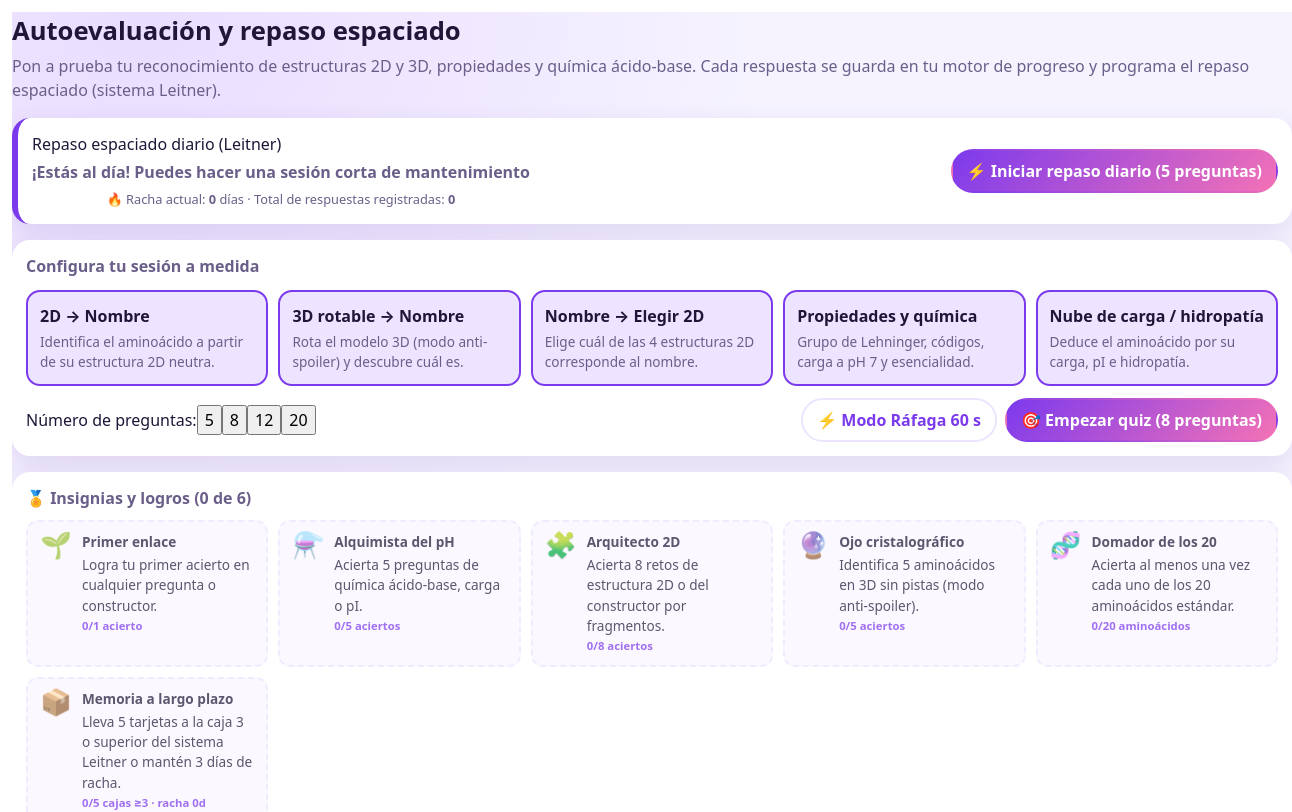
Scenario: QuizTab › muestra las insignias y permite iniciar el modo Ráfaga de 60 segundos
The image size is (1292, 812).
Expected: the heading "🏅 Insignias y logros (0 de 6)" is shown, [26,487,251,509]
Click the button "⚡ Modo Ráfaga 60 s". click: coordinates (899, 420)
box: [801,398,997,442]
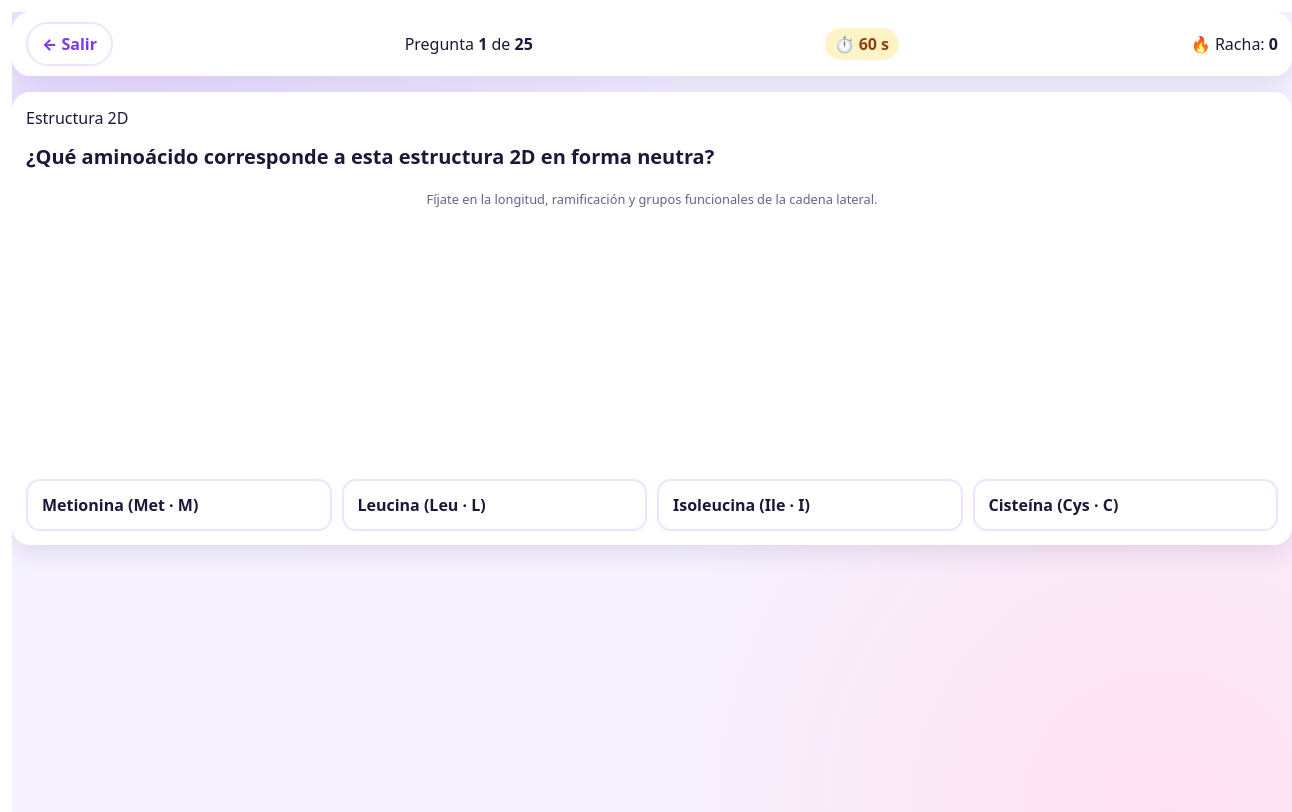
Expected: the element showing "⏱️ 60 s" is shown, [824,28,899,60]
